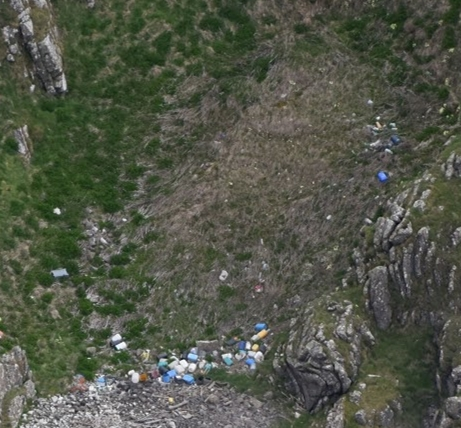scattered_barrel: (354, 99, 408, 188)
together_barrel: (126, 318, 277, 392)
white_in_green: (93, 314, 141, 367), (33, 247, 86, 295), (33, 188, 86, 236), (201, 248, 254, 296)
